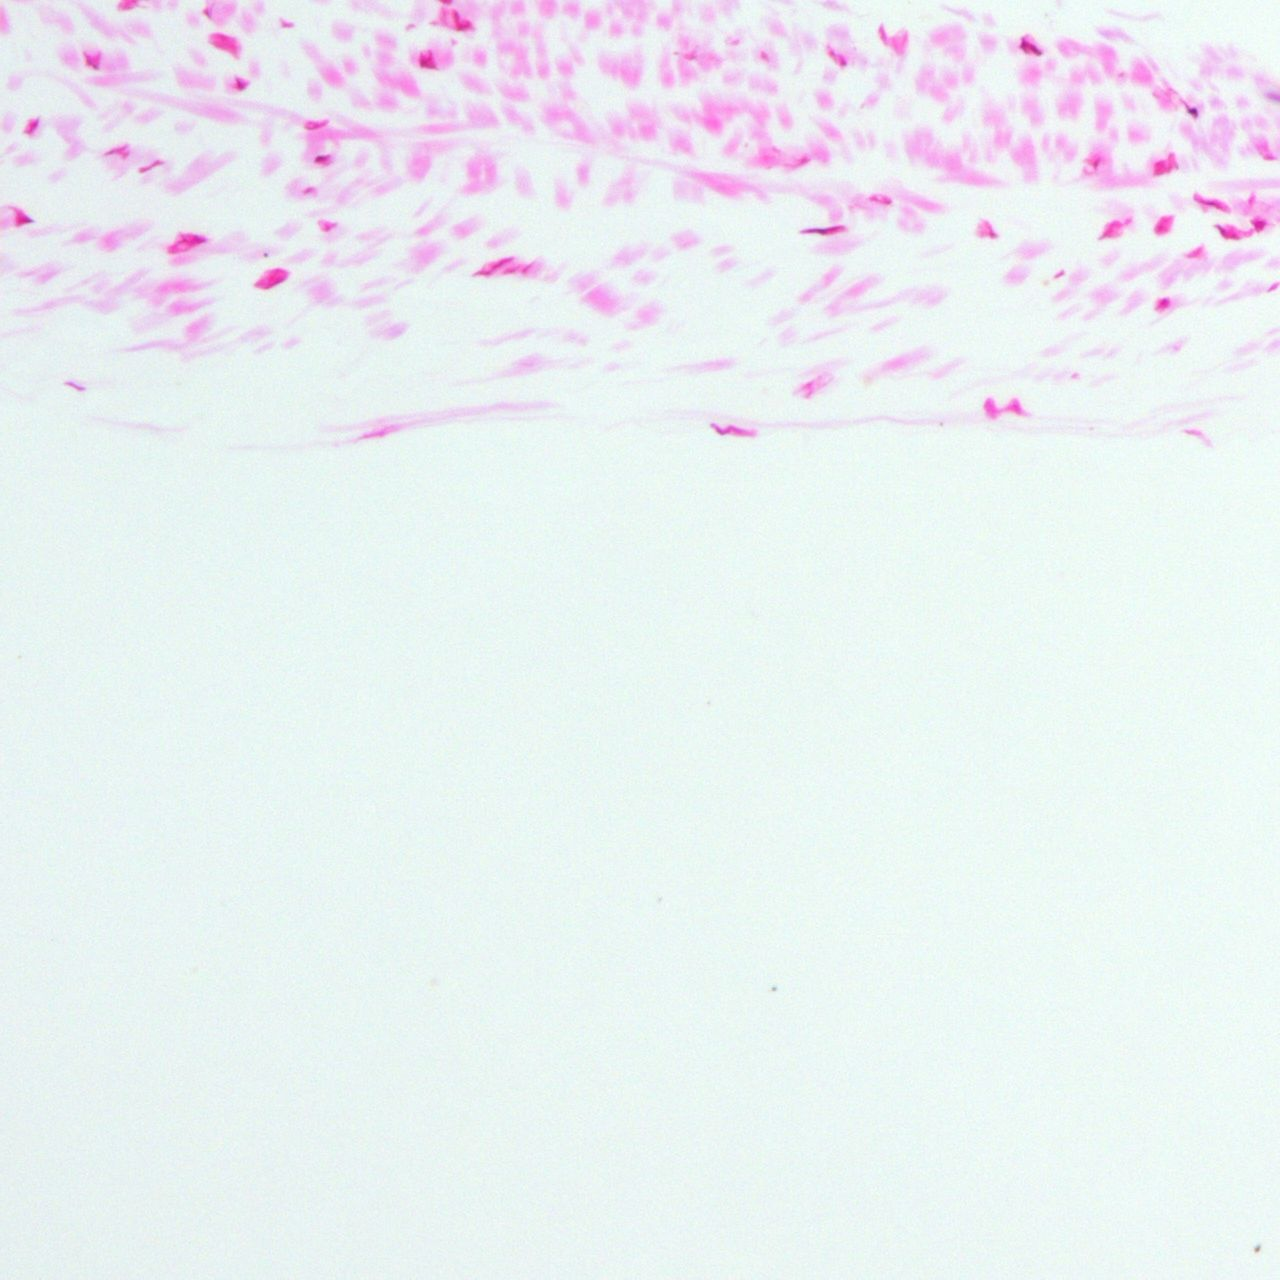dust: (1254, 1245, 1262, 1252), (770, 986, 776, 991), (263, 252, 267, 258)
nucleus-FG: (164, 224, 209, 257), (204, 27, 246, 61), (469, 250, 516, 280), (251, 260, 292, 294), (1211, 217, 1257, 247), (1189, 189, 1232, 217), (708, 420, 759, 441), (796, 222, 850, 240), (1149, 208, 1178, 240), (821, 44, 852, 73), (1148, 151, 1180, 178), (1015, 33, 1046, 60), (1246, 211, 1271, 236), (136, 156, 166, 176), (103, 143, 132, 163), (21, 112, 43, 138), (1003, 396, 1027, 418), (866, 189, 894, 207), (1099, 219, 1123, 240), (303, 116, 331, 133), (1153, 294, 1174, 316), (1081, 153, 1102, 175), (451, 9, 472, 30), (981, 396, 999, 420), (61, 378, 86, 395), (976, 220, 997, 240), (12, 207, 34, 226), (419, 49, 435, 70), (83, 51, 100, 70), (500, 262, 520, 277), (1186, 244, 1204, 259), (314, 154, 332, 167), (319, 219, 337, 231), (235, 76, 248, 91), (302, 184, 318, 196), (1261, 152, 1278, 162), (280, 19, 294, 29), (202, 6, 212, 18)
